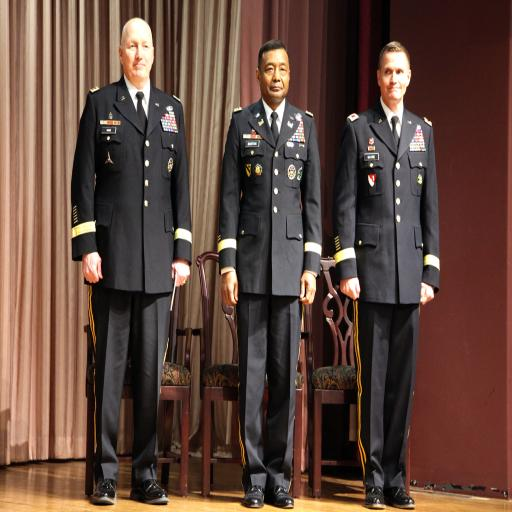Person: (338, 80, 480, 438), (195, 90, 337, 448), (58, 81, 200, 439)
no_boots: (350, 413, 393, 437), (223, 413, 266, 437), (80, 411, 123, 435), (386, 412, 428, 436), (267, 413, 309, 437), (131, 412, 173, 436)
no_gloves: (337, 263, 369, 304), (293, 255, 325, 296), (76, 250, 108, 291), (413, 268, 445, 308), (163, 252, 195, 292), (216, 264, 247, 305)
no_goggle: (256, 114, 298, 125), (372, 117, 414, 127), (118, 98, 159, 108)
no_helmet: (363, 97, 423, 115), (244, 98, 304, 116), (110, 83, 170, 101)
none: (94, 136, 176, 280), (240, 149, 306, 285), (358, 150, 420, 288)
